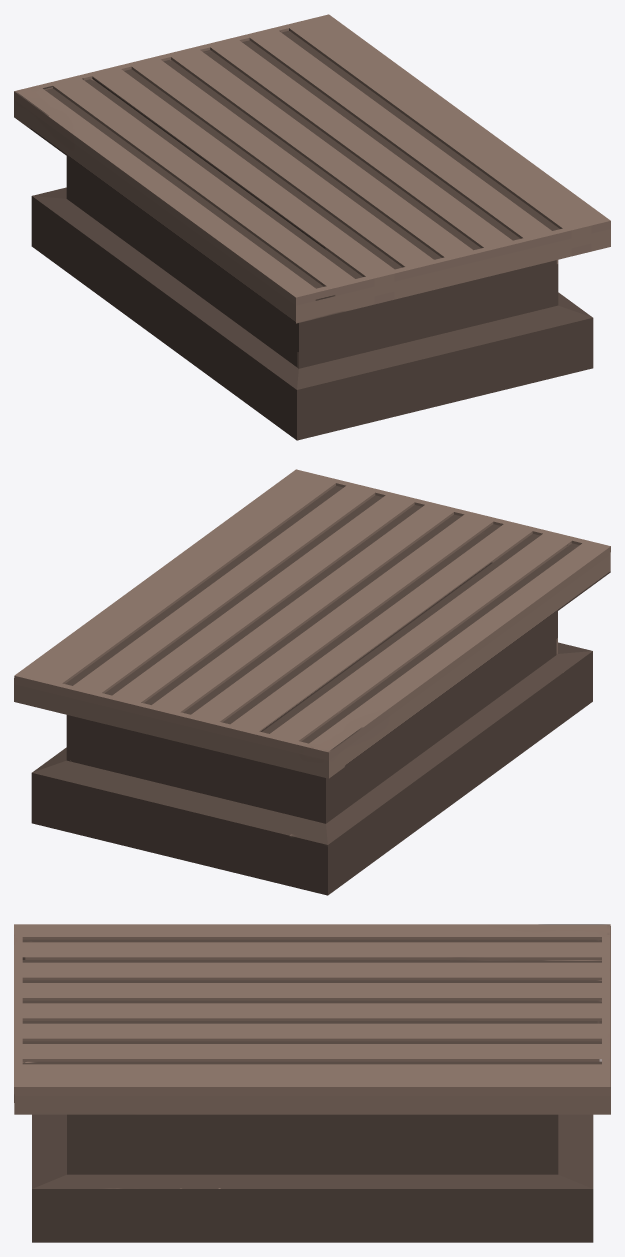
Rendered from Table.fbx.
3 views of the same model, one above another, from view 1: azimuth 30°, elevation 25°; view 2: azimuth 150°, elevation 25°; view 3: azimuth 270°, elevation 25° (orthographic). The views are drawn at different scales.
Visible parts, largest first — view 1: Cube; view 2: Cube; view 3: Cube.
Boxes of the visible parts, x1,y1,x2,y2 form: Cube: (14, 14, 610, 440); Cube: (14, 469, 610, 895); Cube: (14, 924, 610, 1242).
Bounding box in the file's own units: 275 × 127 × 427.
1 material, 1 textured.
